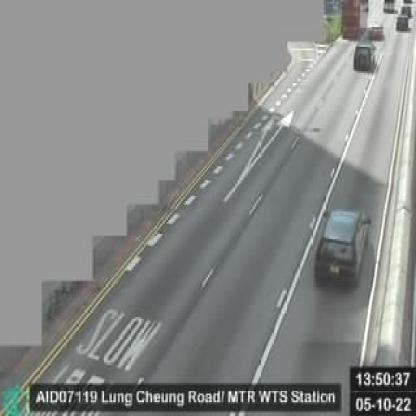Bus: (340, 2, 369, 38)
Car: (314, 208, 370, 289), (352, 41, 377, 70), (368, 22, 384, 41), (397, 12, 410, 32)
